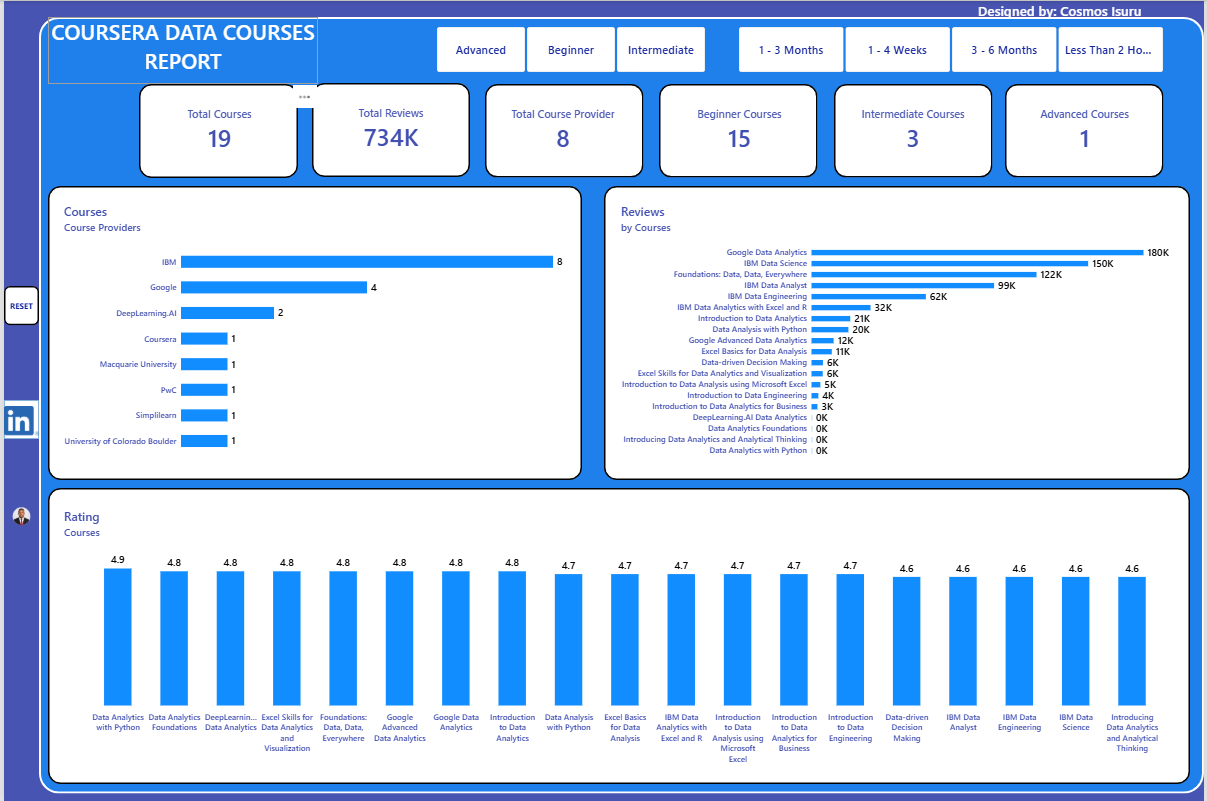

The page's visual inventory and layout, read from the dashboard file:
{"tool":"powerbi","page":{"name":"Page 1","canvas":[2400,1600],"ordinal":0},"visuals":[{"type":"shape","box":[70.2,31.9,2329.8,1553.2],"z":0},{"type":"shape","box":[88,370,1068,588],"z":1000},{"type":"shape","box":[88,974,2284,592],"z":2000},{"type":"shape","box":[1200,370,1172,588],"z":3000},{"type":"shape","box":[961.7,166,317,187.2],"z":4000},{"type":"shape","box":[1310.6,166,317,187.2],"z":5000},{"type":"shape","box":[1659.6,166,317,187.2],"z":6000},{"type":"shape","box":[2002.1,166,317,187.2],"z":7000},{"type":"shape","box":[616,164,316,188],"z":8000},{"type":"shape","box":[270,166,318,188],"z":9000},{"type":"actionButton","box":[0,570.2,70.2,78.7],"z":10000},{"type":"shape","box":[0,797.9,70,78],"z":11000},{"type":"image","box":[0,800,70.2,78.7],"z":12000},{"type":"textbox","box":[87.2,31.9,540.4,134],"z":13000},{"type":"image","box":[0,957.4,70.2,144.7],"z":14000},{"type":"advancedSlicerVisual","fields":{"Values":["Fact Table.Level"]},"box":[866,52,536,90],"z":15000},{"type":"cardVisual","fields":{"Data":["Fact Table.Total Courses"]},"box":[290,182,282,150],"z":16000},{"type":"cardVisual","fields":{"Data":["Fact Table.Total Providers"]},"box":[970,182,296,150],"z":17000},{"type":"cardVisual","fields":{"Data":["Fact Table.Intermediate Courses"]},"box":[1678,182,280,150],"z":18000},{"type":"cardVisual","fields":{"Data":["Fact Table.Beginner Courses"]},"box":[1328,182,286,150],"z":19000},{"type":"cardVisual","fields":{"Data":["Fact Table.Advanced Courses"]},"box":[2020,182,282,150],"z":20000},{"type":"cardVisual","fields":{"Data":["Fact Table.Total Reviews"]},"box":[636,182,276,146],"z":21000},{"type":"clusteredBarChart","title":"Reviews","fields":{"Category":["Fact Table.Course"],"Y":["Fact Table.Total Reviews"]},"box":[1218,390,1128,540],"z":22000},{"type":"barChart","title":"Courses","fields":{"Category":["Fact Table.Provider"],"Y":["Fact Table.Total Courses"]},"box":[104,390,1030,540],"z":23000},{"type":"clusteredColumnChart","title":"Rating","fields":{"Category":["Fact Table.Course"],"Y":["Fact Table.Total Rating"]},"box":[104,1000,2242,544],"z":24000},{"type":"textbox","box":[1948,0,452,52],"z":25000},{"type":"advancedSlicerVisual","fields":{"Values":["Fact Table.Duration"]},"box":[1470,52,848,90],"z":26000},{"type":"image","box":[88,112,168,240],"z":26001}]}

Visuals, with their boxes in screenshot pixels (x1, y1, x2, y2), scaled from the page's 2400x1600 canvas onto the 1207x801 screenshot:
shape: (35, 16, 1206, 794)
shape: (44, 185, 581, 480)
shape: (44, 488, 1193, 784)
shape: (604, 185, 1193, 480)
shape: (484, 83, 643, 177)
shape: (659, 83, 819, 177)
shape: (835, 83, 994, 177)
shape: (1007, 83, 1166, 177)
shape: (310, 82, 469, 176)
shape: (136, 83, 296, 177)
actionButton: (0, 285, 35, 325)
shape: (0, 399, 35, 438)
image: (0, 400, 35, 440)
textbox: (44, 16, 316, 83)
image: (0, 479, 35, 552)
advancedSlicerVisual - Fact Table.Level: (436, 26, 705, 71)
cardVisual - Fact Table.Total Courses: (146, 91, 288, 166)
cardVisual - Fact Table.Total Providers: (488, 91, 637, 166)
cardVisual - Fact Table.Intermediate Courses: (844, 91, 985, 166)
cardVisual - Fact Table.Beginner Courses: (668, 91, 812, 166)
cardVisual - Fact Table.Advanced Courses: (1016, 91, 1158, 166)
cardVisual - Fact Table.Total Reviews: (320, 91, 459, 164)
"Reviews" clusteredBarChart: (613, 195, 1180, 466)
"Courses" barChart: (52, 195, 570, 466)
"Rating" clusteredColumnChart: (52, 501, 1180, 773)
textbox: (980, 0, 1206, 26)
advancedSlicerVisual - Fact Table.Duration: (739, 26, 1166, 71)
image: (44, 56, 129, 176)
